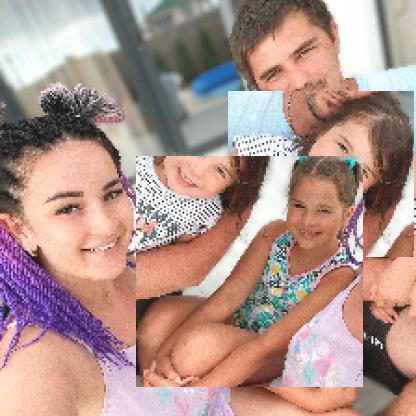child: (137, 157, 365, 389), (229, 92, 416, 259)
